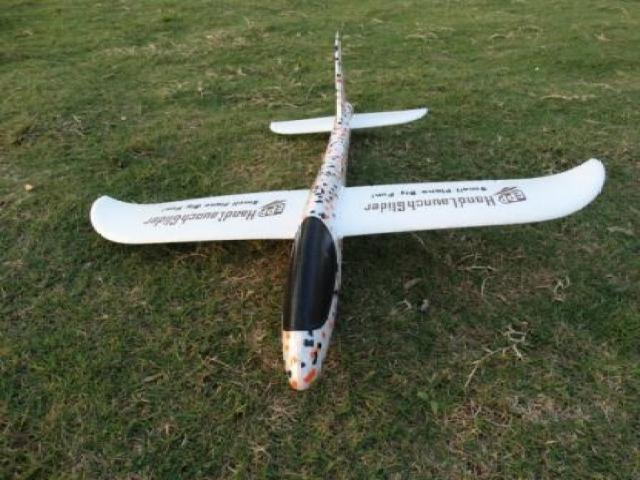uav: (82, 29, 608, 397)
